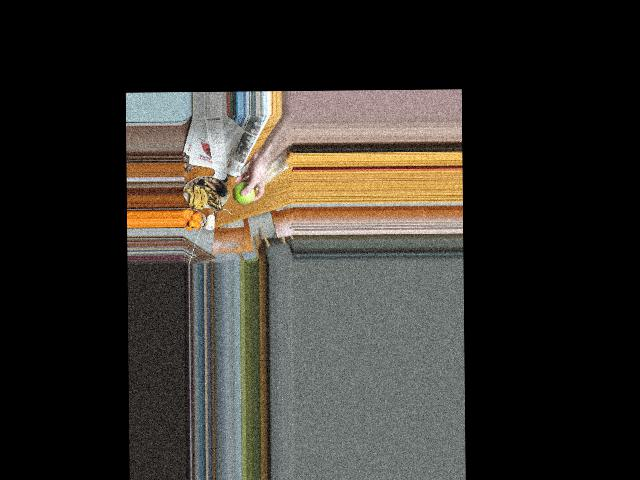apple: (232, 180, 255, 204)
